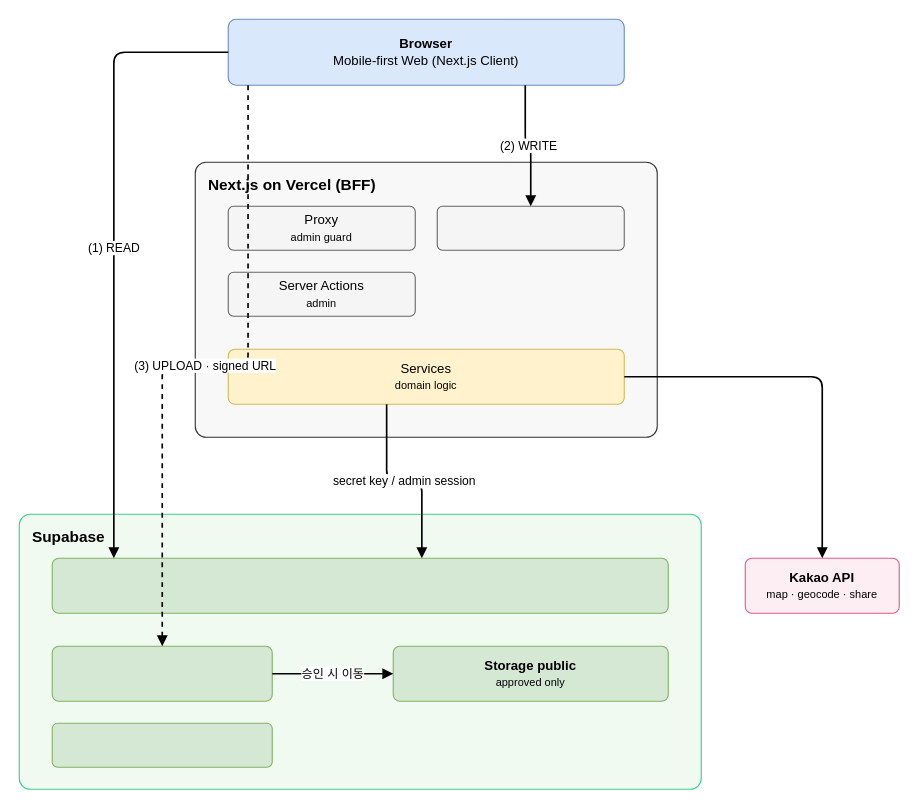
Some shapes in this 919 by 809 pixel diagram are drawn without their labels. The shapes that lost their labels are listed below. From the top down, each one's centre as x and y in pixels, then its label:
At point 530,227: "Route Handlers public API".
At point 359,585: "Postgres RLS + SQL functions".
At point 161,673: "Storage private originals".
At point 161,744: "Auth (admin)".
